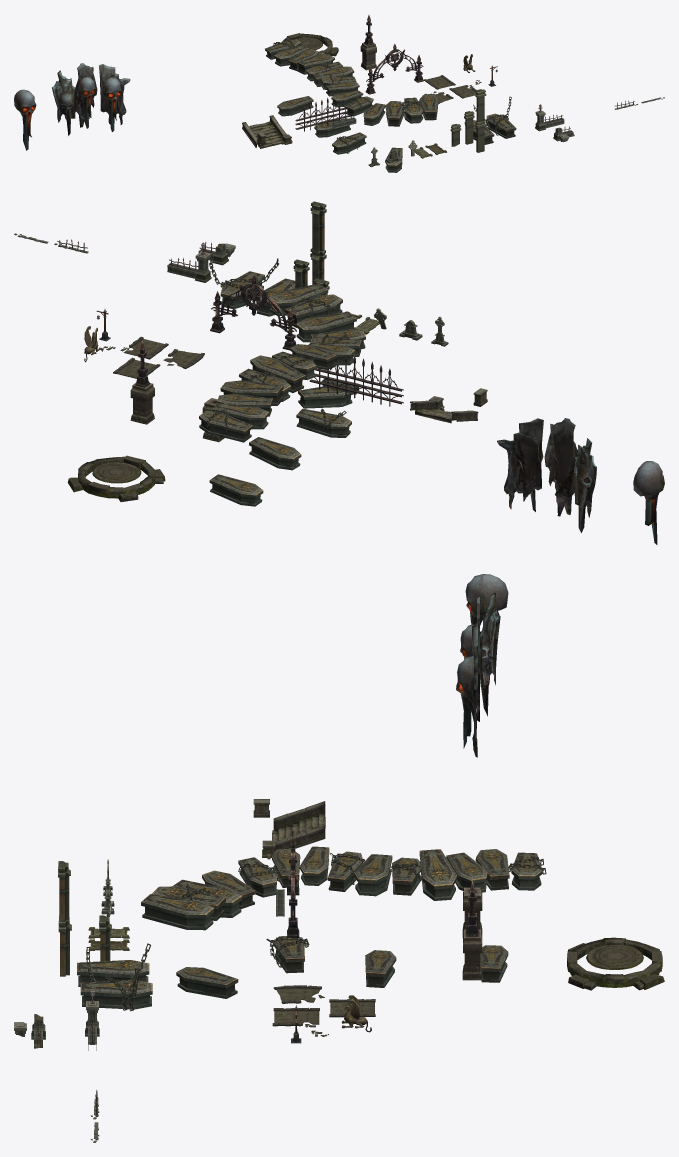
File: f_1113_wujianxiugai.FBX
The picture shows the model from 3 angles, top to bottom: view 1: azimuth 30°, elevation 25°; view 2: azimuth 150°, elevation 25°; view 3: azimuth 270°, elevation 25°; orthographic projection. The views are drawn at different scales.
Parts seen in each view (by area): view 1: f_1113_floor013, f_108_Bone_06, f_108_Bone_05, f_1113_floor_a01, f_1113_floor_a04, f_108_Bone_07, f_1113_floor_a02, f_1113_floor01, f_1103_floor035, Object023, d_1140_windmill001, f_1103_floor26 (+1 smaller); view 2: f_1113_floor013, f_108_Bone_06, f_108_Bone_05, d_1140_windmill001, f_1113_floor_a01, f_1113_floor_a02, f_108_Bone_07, Object023, f_1103_floor035, f_1113_floor01, f_1113_floor_a04, f_1128_taizi (+2 smaller); view 3: f_1113_floor013, d_1140_windmill001, f_1113_floor01, f_108_Bone_06, f_1113_floor_a04, f_108_Bone_05, f_108_Bone_07, Object009, Object023, f_1103_floor035, f_1128_taizi, f_1113_floor_a01 (+1 smaller).
Boxes of the visible parts, <box> form: f_1113_floor013: <box>265,38,438,172</box>; f_108_Bone_06: <box>52,63,97,135</box>; f_108_Bone_05: <box>99,64,130,131</box>; f_1113_floor_a01: <box>365,43,423,94</box>; f_1113_floor_a04: <box>242,115,286,148</box>; f_108_Bone_07: <box>14,89,36,150</box>; f_1113_floor_a02: <box>295,97,351,131</box>; f_1113_floor01: <box>473,96,516,138</box>; f_1103_floor035: <box>475,89,486,152</box>; Object023: <box>360,14,376,70</box>; d_1140_windmill001: <box>278,33,338,56</box>; f_1103_floor26: <box>464,111,474,144</box>; f_1113_floor013: <box>199,283,365,506</box>; f_108_Bone_06: <box>544,418,596,532</box>; f_108_Bone_05: <box>497,418,543,511</box>; d_1140_windmill001: <box>67,455,165,501</box>; f_1113_floor_a01: <box>210,274,296,350</box>; f_1113_floor_a02: <box>309,355,403,406</box>; f_108_Bone_07: <box>633,461,664,544</box>; Object023: <box>130,340,154,424</box>; f_1103_floor035: <box>310,201,326,284</box>; f_1113_floor01: <box>209,258,279,308</box>; f_1113_floor_a04: <box>410,400,478,423</box>; f_1128_taizi: <box>92,462,141,483</box>; f_1113_floor013: <box>141,846,546,998</box>; d_1140_windmill001: <box>567,937,664,990</box>; f_1113_floor01: <box>80,943,152,1011</box>; f_108_Bone_06: <box>460,592,500,721</box>; f_1113_floor_a04: <box>272,801,325,851</box>; f_108_Bone_05: <box>456,622,477,757</box>; f_108_Bone_07: <box>465,574,508,625</box>; Object009: <box>77,960,149,986</box>; Object023: <box>462,881,482,980</box>; f_1103_floor035: <box>58,861,71,976</box>; f_1128_taizi: <box>586,945,643,969</box>; f_1113_floor_a01: <box>287,836,299,937</box>.
Size of the model in its own units: 11791 by 2183 by 6866.
